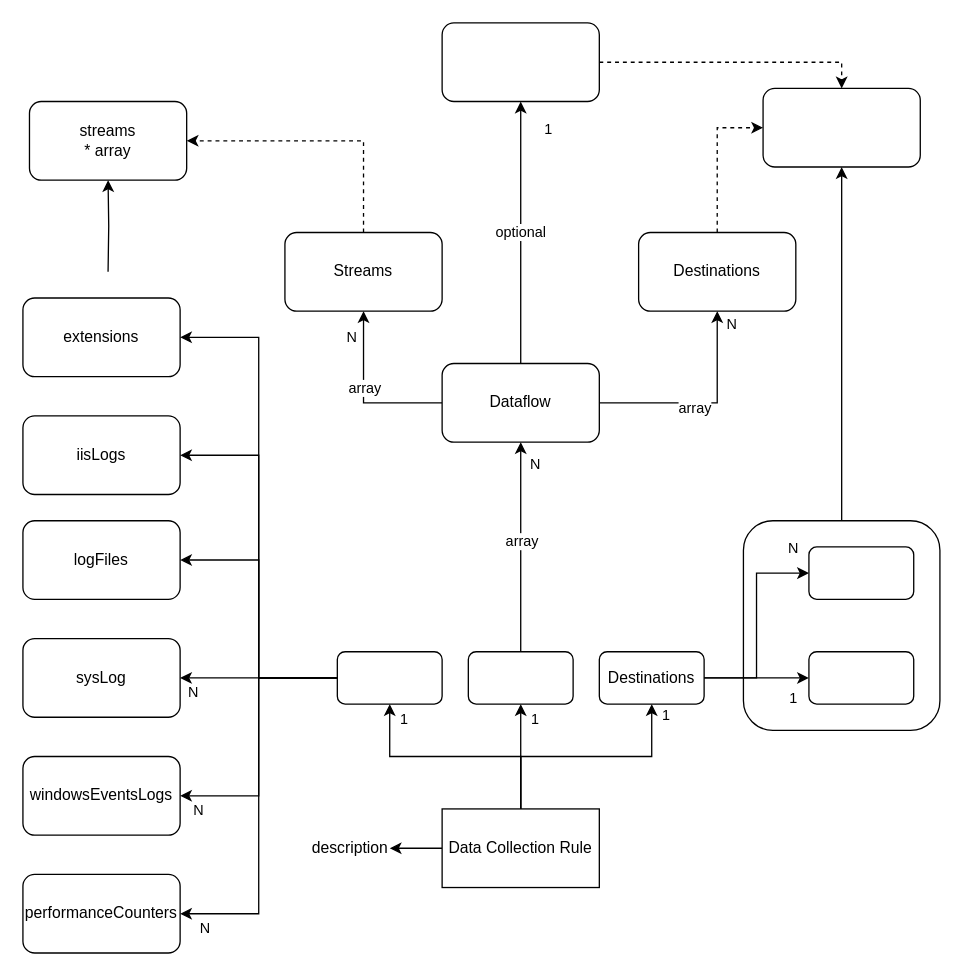
Some shapes in this 963 by 976 pixel diagram are drawn without their labels. The centre of each missing label's shape, as x and y in pixels:
"Dataflows" belongs at (x=520, y=677).
"DataSources" belongs at (x=389, y=677).
"Log analytics workspace" belongs at (x=861, y=572).
"Metrics" belongs at (x=861, y=677).
"name * string" belongs at (x=841, y=127).
"outputstream transformKql" belongs at (x=520, y=62).
